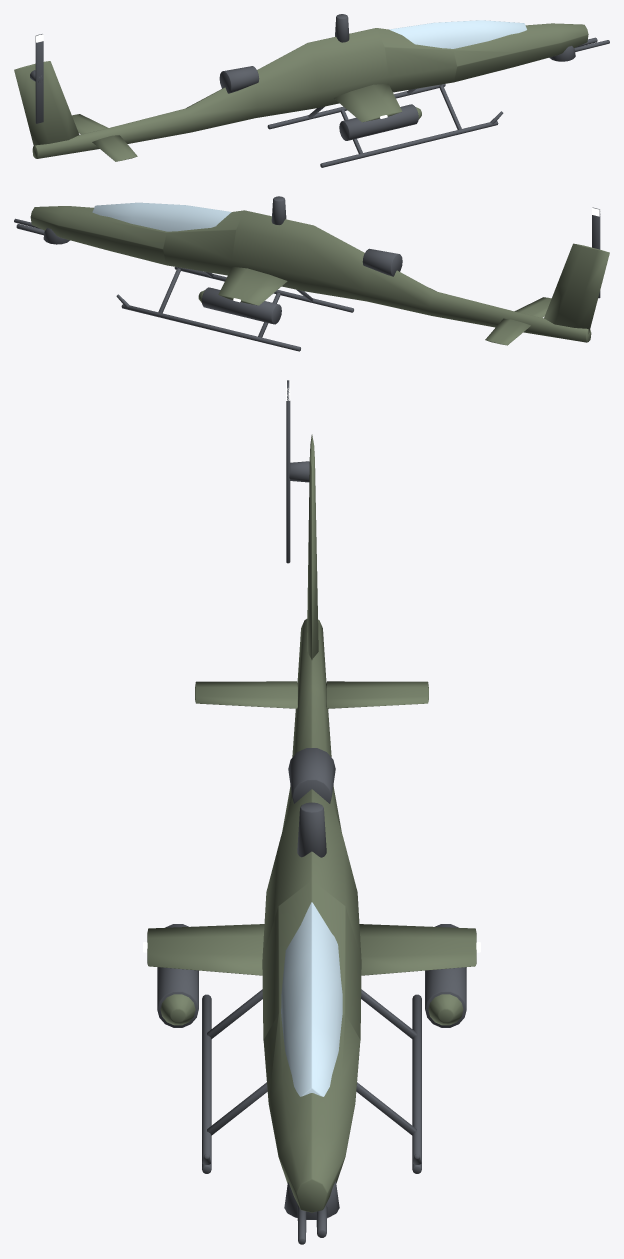
File: SM_AH1G_Cobra.fbx
The picture shows the model from 3 angles, top to bottom: view 1: azimuth 30°, elevation 25°; view 2: azimuth 150°, elevation 25°; view 3: azimuth 270°, elevation 25°; orthographic projection. The views are drawn at different scales.
Parts seen in each view (by area): view 1: SM_AH1G_Cobra; view 2: SM_AH1G_Cobra; view 3: SM_AH1G_Cobra.
Part boxes in pixels (x1,y1,x2,y2): SM_AH1G_Cobra: [14, 14, 609, 167]; SM_AH1G_Cobra: [14, 196, 609, 351]; SM_AH1G_Cobra: [143, 380, 480, 1244].
Bounding box in the file's own units: 13.8 × 3.41 × 4.05.
